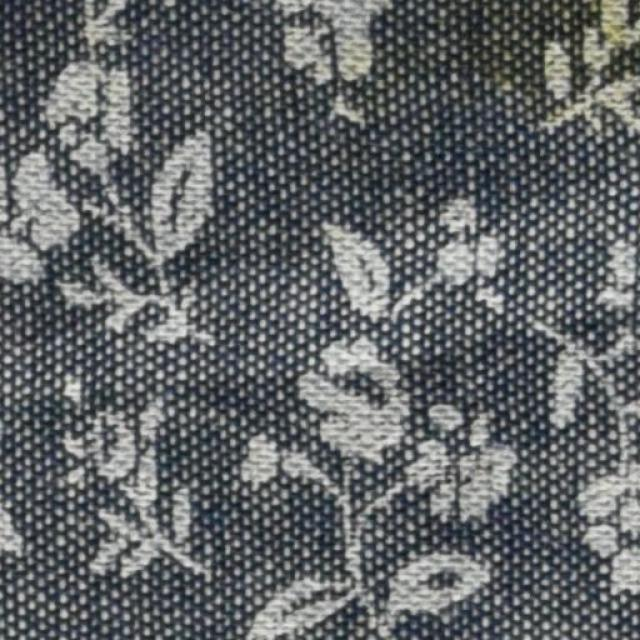Snag: (330, 1, 639, 133)
